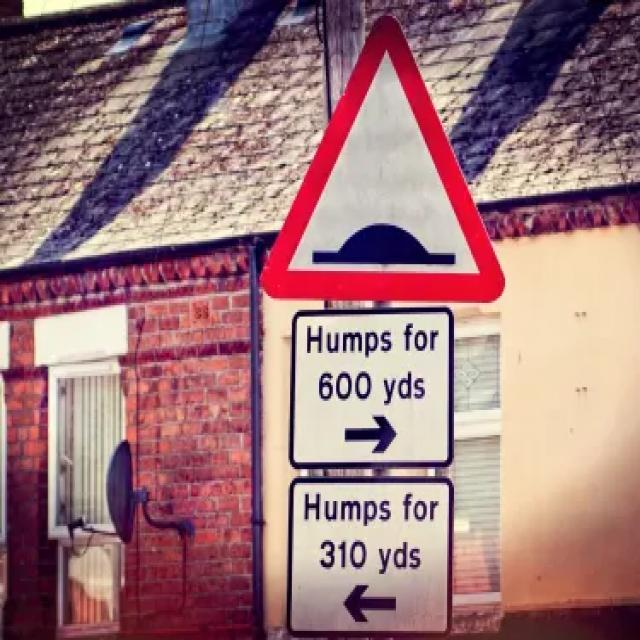hump: (256, 4, 511, 305)
